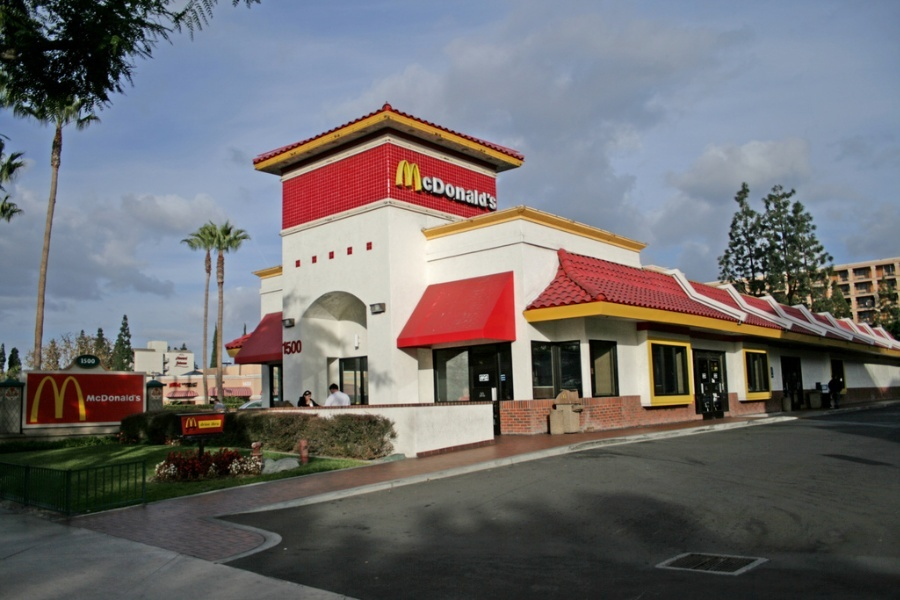text: (401, 157, 416, 210), (417, 157, 432, 210), (433, 157, 448, 210), (449, 157, 464, 210), (465, 157, 480, 210), (481, 157, 496, 210), (49, 374, 64, 424), (65, 374, 80, 424), (34, 374, 48, 424), (81, 374, 88, 424), (289, 340, 303, 355), (397, 157, 400, 210), (97, 393, 112, 403), (113, 393, 128, 403), (129, 393, 143, 403), (81, 357, 96, 365), (85, 393, 96, 403), (183, 417, 192, 428), (283, 340, 288, 355), (209, 421, 221, 427), (177, 356, 189, 361), (177, 362, 189, 367), (193, 417, 198, 428), (199, 421, 208, 427), (497, 157, 498, 210), (174, 356, 176, 361), (174, 362, 176, 367)
